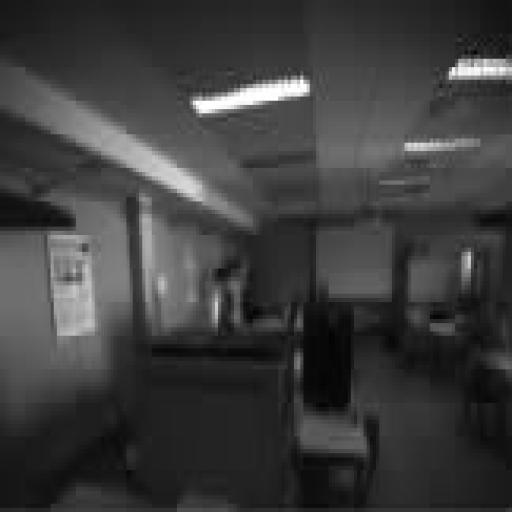human: (224, 256, 252, 330), (200, 265, 227, 334)
